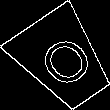O_SE: (28, 27, 98, 94)
